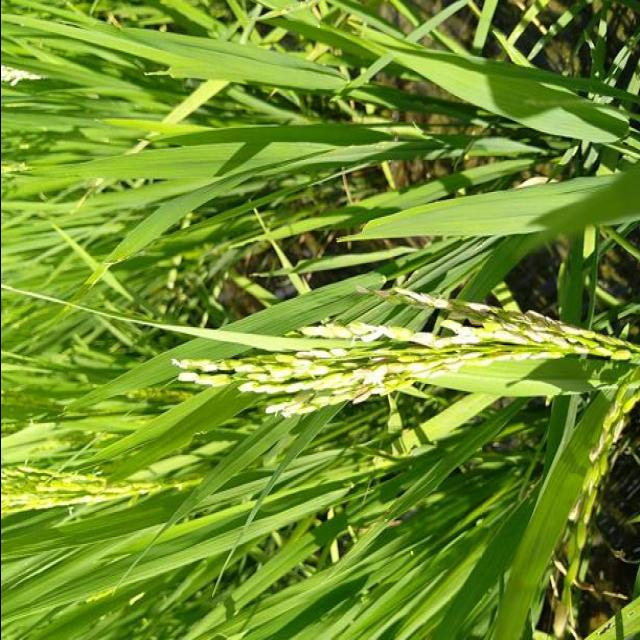Panicle Blight: (173, 288, 608, 417)
